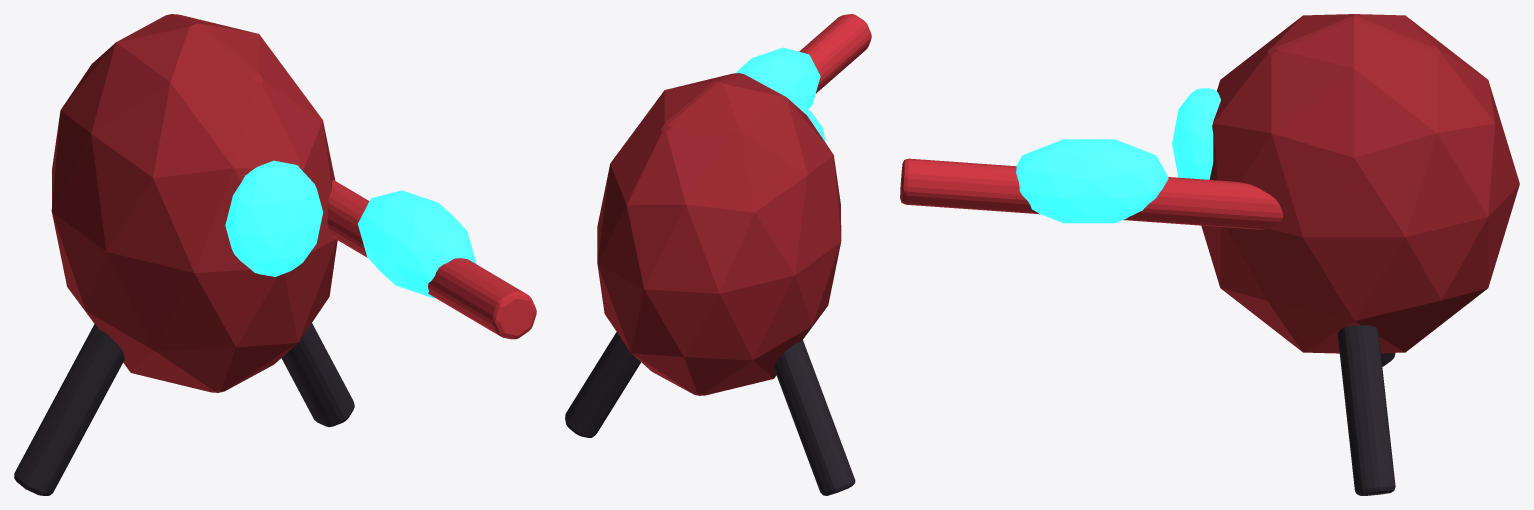
Rendered from alien_anti_armor.glb.
3 views of the same model, side by side, from view 1: azimuth 30°, elevation 25°; view 2: azimuth 150°, elevation 25°; view 3: azimuth 270°, elevation 25° (orthographic). The views are drawn at different scales.
Parts seen in each view (by area): view 1: LancerBody, LancerEye, LanceCore, Leg, EnergyLance, Leg.001; view 2: LancerBody, Leg, Leg.001, LanceCore, EnergyLance; view 3: LancerBody, EnergyLance, LanceCore, Leg.001, LancerEye.
Part boxes in pixels (<box>): LancerBody: <box>51,14,337,392</box>; LancerEye: <box>225,160,323,276</box>; LanceCore: <box>358,190,476,297</box>; Leg: <box>14,324,124,495</box>; EnergyLance: <box>327,180,536,339</box>; Leg.001: <box>281,323,354,427</box>; LancerBody: <box>597,73,841,395</box>; Leg: <box>774,339,855,495</box>; Leg.001: <box>565,332,640,437</box>; LanceCore: <box>736,47,820,108</box>; EnergyLance: <box>799,14,871,93</box>; LancerBody: <box>1201,14,1519,353</box>; EnergyLance: <box>900,158,1282,229</box>; LanceCore: <box>1016,139,1168,223</box>; Leg.001: <box>1337,325,1395,495</box>; LancerEye: <box>1172,88,1220,179</box>.
Size of the model in its own units: 0.6572 by 0.8302 by 1.12.
